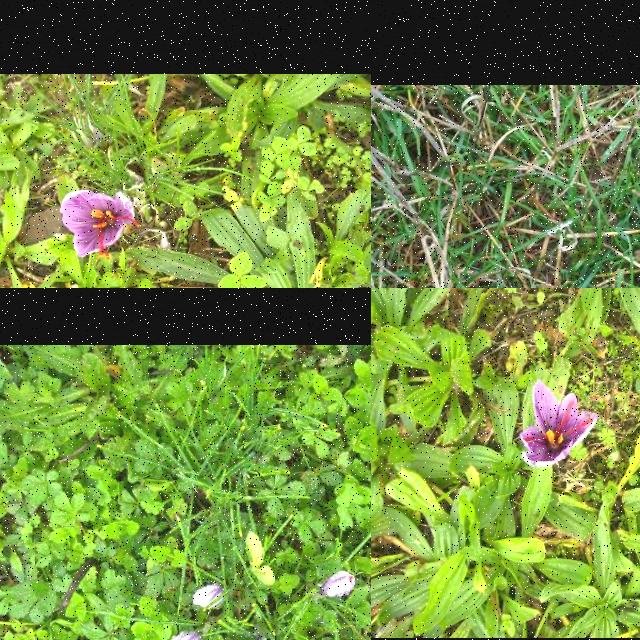flower: (521, 382, 599, 466), (62, 192, 138, 258), (319, 572, 356, 598), (193, 584, 227, 610), (168, 630, 204, 640)
